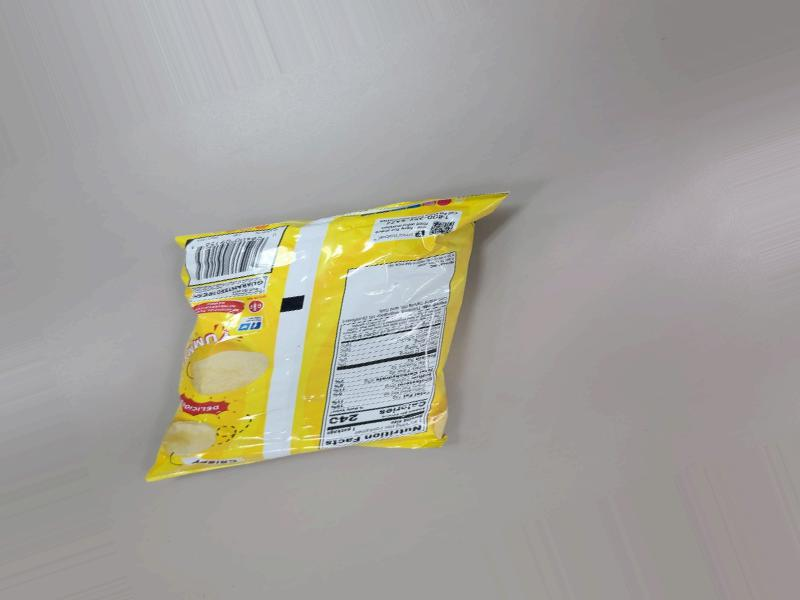lays: (129, 202, 504, 506)
